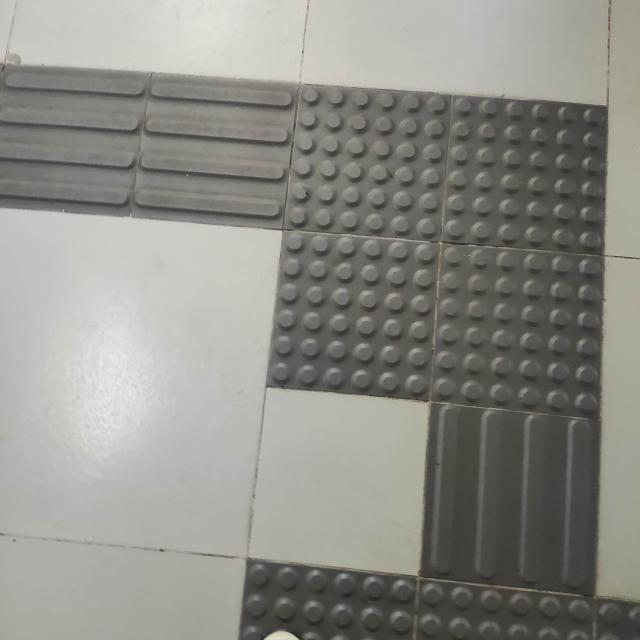kiri: (62, 43, 640, 576)
